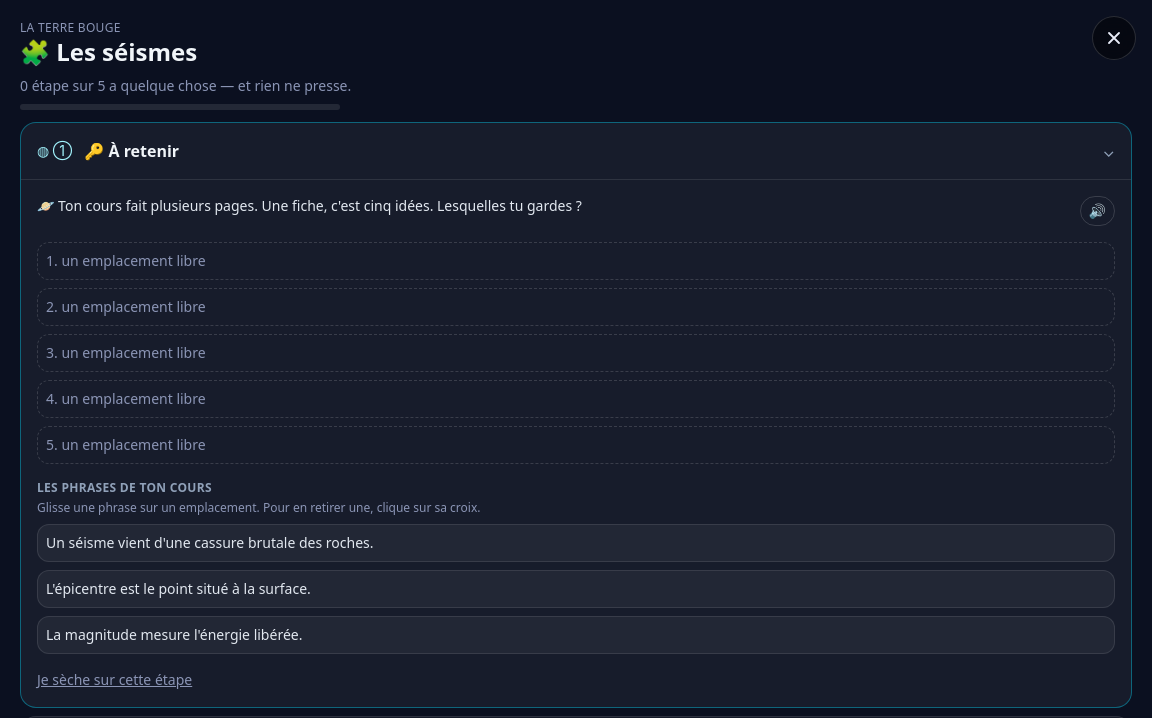
AtelierPage › n'ouvre « regarde ma fiche » que lorsqu'il a choisi quelque chose
Press the mouse on the button "Un séisme vient d'une cassure brutale des roches." at (210, 542), box left=37, top=524, right=1115, bottom=562
(page scrolled)
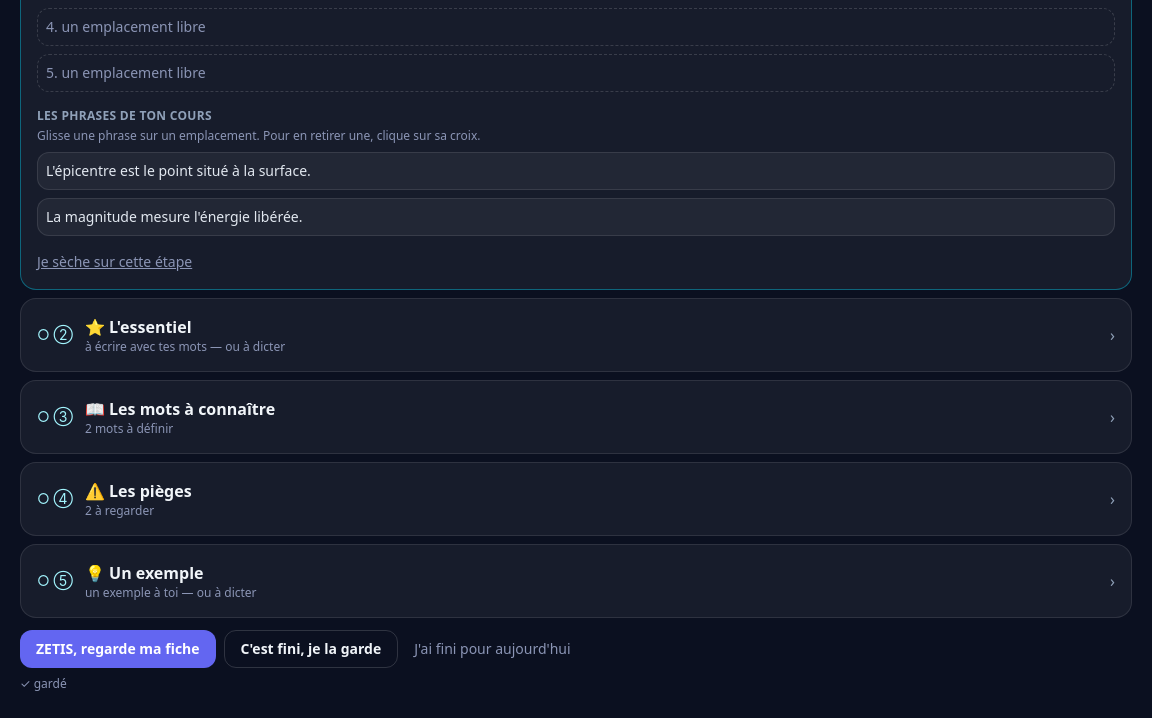
Check: the button "ZETIS, regarde ma fiche" is enabled, box left=20, top=630, right=216, bottom=668
